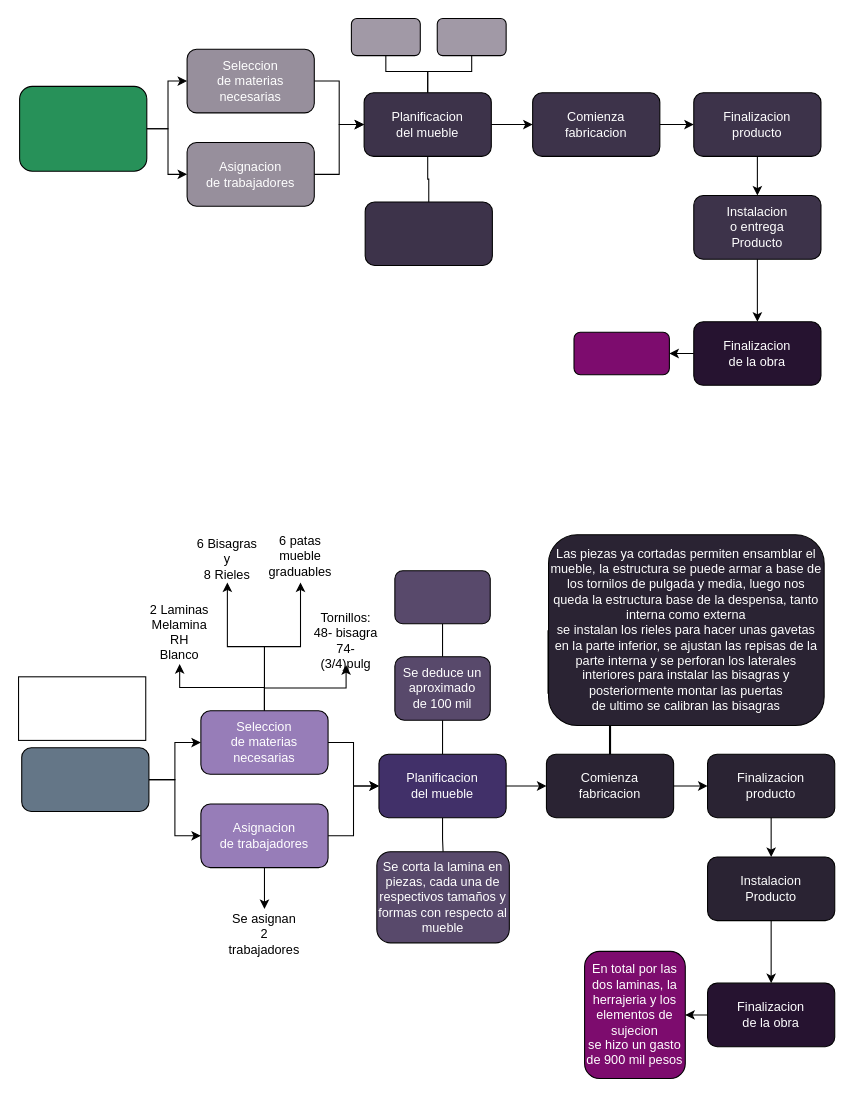
Some shapes in this 853 by 1097 pixel diagram are drawn without their labels. Here are the shapes that lost their labels. From the top down, the centre of each, then its label:
point 385,36: Analisis de gastos
point 471,36: Evaluacion de tiempo
point 83,128: Produccion e Instalacion entrega
point 428,233: Preparacion de los materiales
point 621,353: evaluación financiera
point 442,597: Tiempo estimado: 3-4 dias
point 81,708: Ejemplo:
point 85,779: Producto: despensa para cocina de 200x95cm
